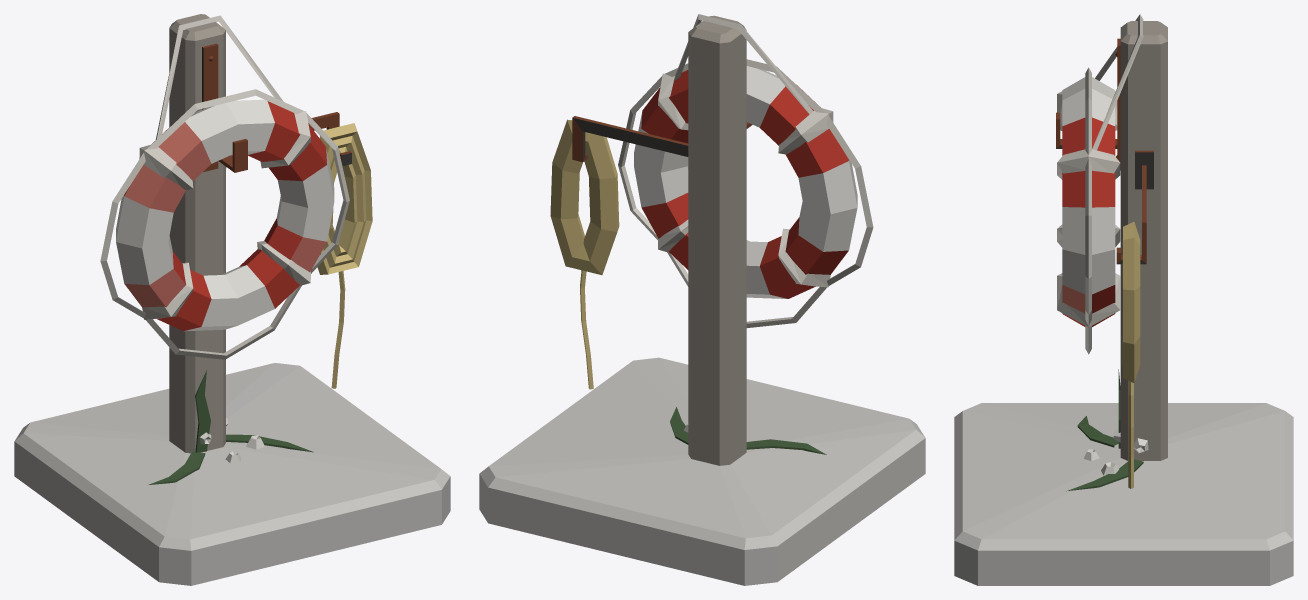
File: lifebuoy-on-a-post-57421b.glb
3 renders of one model, left to right at view 1: azimuth 30°, elevation 25°; view 2: azimuth 150°, elevation 25°; view 3: azimuth 270°, elevation 25°, orthographic. The views are drawn at different scales.
Parts seen in each view (by area): view 1: post-body, line-tail-mesh; view 2: post-body, line-tail-mesh; view 3: post-body, line-tail-mesh.
Boxes of the visible parts, x1,y1,x2,y2 form: post-body: (14,14,450,585); line-tail-mesh: (331,271,345,388); post-body: (479,14,925,585); line-tail-mesh: (580,270,593,389); post-body: (954,14,1293,585); line-tail-mesh: (1128,381,1133,488).
Bounding box in the file's own units: 1.01 × 1.55 × 1.
